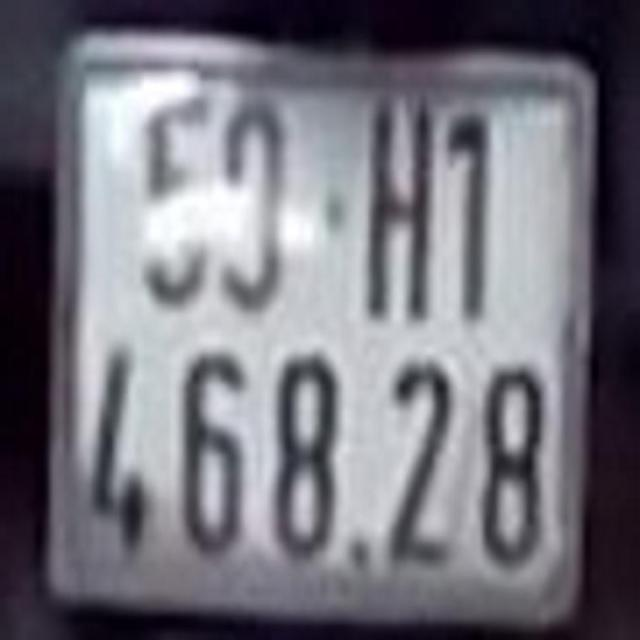1: (447, 114, 493, 321)
2: (391, 362, 451, 575)
4: (89, 347, 147, 560)
5: (137, 95, 210, 299)
6: (187, 350, 244, 558)
8: (275, 356, 341, 564), (487, 371, 540, 576)
9: (221, 103, 286, 314)
H: (362, 91, 434, 322)
